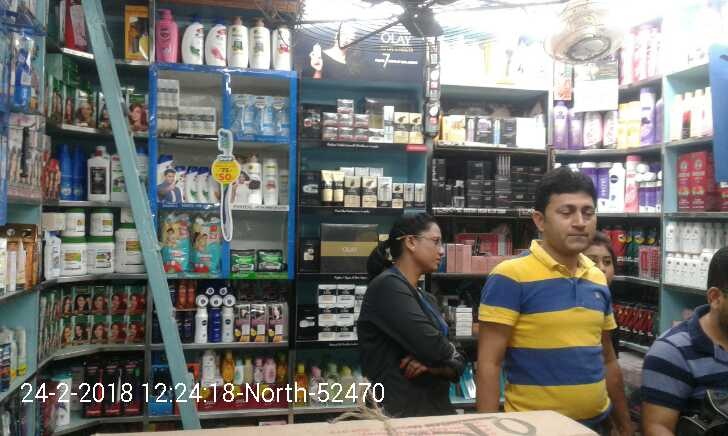venus: (251, 95, 272, 137), (231, 95, 251, 136), (273, 96, 291, 139)
